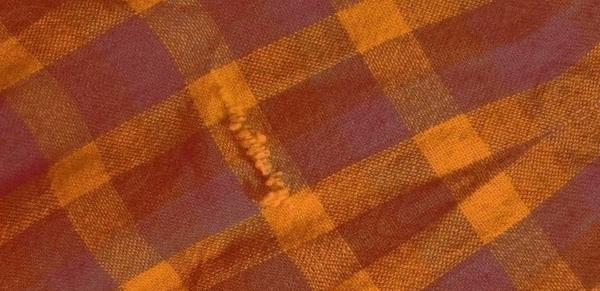knot: (218, 81, 293, 216)
